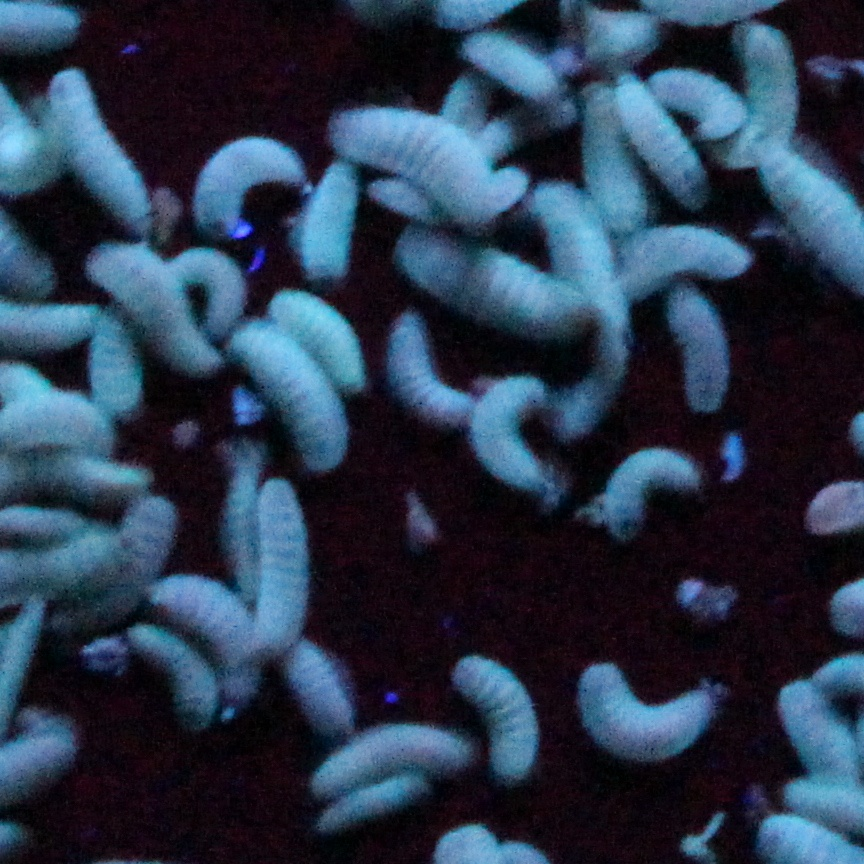larve: (411, 247, 579, 335), (96, 239, 194, 369), (261, 338, 343, 475), (68, 83, 145, 225), (558, 202, 607, 421), (168, 578, 259, 694), (199, 131, 291, 245), (588, 671, 708, 754), (624, 78, 707, 194), (340, 121, 483, 182), (475, 388, 550, 504), (732, 33, 795, 168), (465, 659, 537, 776), (257, 489, 311, 638), (387, 310, 460, 418), (284, 294, 368, 383), (613, 441, 687, 531), (669, 298, 726, 408), (567, 0, 654, 72), (597, 88, 638, 227), (147, 634, 210, 724), (464, 35, 560, 94), (622, 227, 746, 272), (319, 740, 458, 780), (791, 702, 862, 774), (224, 466, 265, 589), (119, 499, 168, 597), (92, 310, 140, 404), (379, 184, 520, 216), (293, 648, 353, 720), (194, 252, 243, 338), (675, 78, 746, 135), (318, 163, 352, 282), (483, 98, 579, 139), (327, 782, 412, 825)
